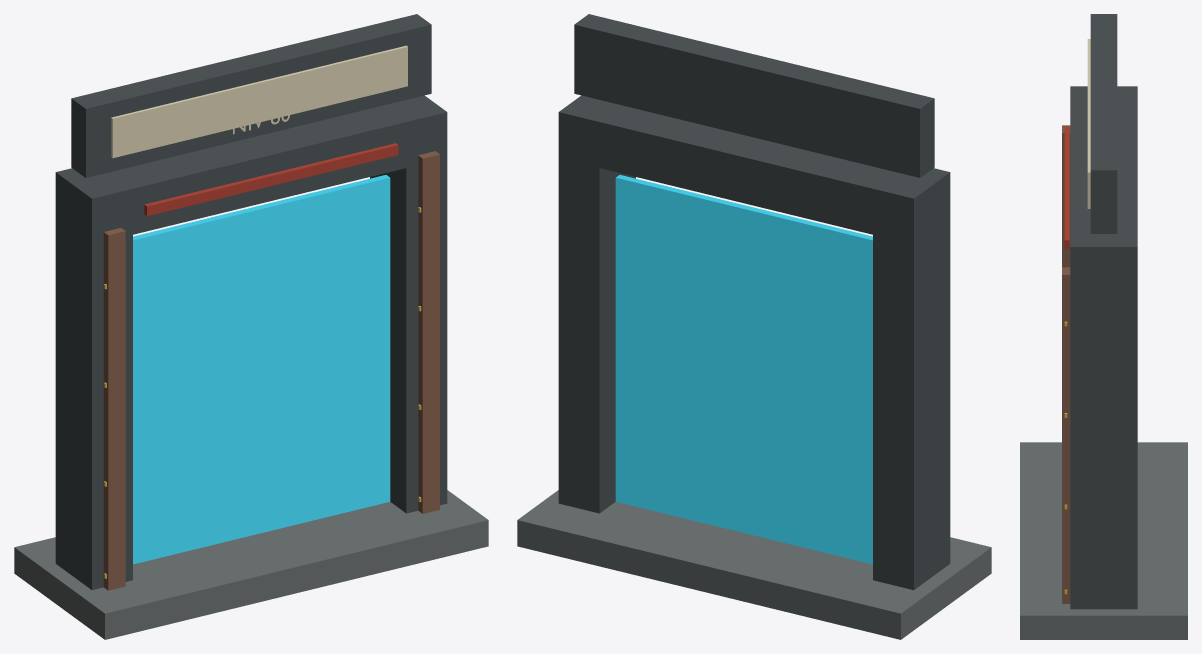
The model's file is Refuge_Portal_08_Citadelle_Niv80.fbx.
3 views of the same model, side by side, from view 1: azimuth 30°, elevation 25°; view 2: azimuth 150°, elevation 25°; view 3: azimuth 270°, elevation 25° (orthographic). The views are drawn at different scales.
Parts seen in each view (by area): view 1: Refuge_Portal_08_Citadelle_Niv80_portal, Refuge_Portal_08_Citadelle_Niv80_iron, Refuge_Portal_08_Citadelle_Niv80_concrete_dark, Refuge_Portal_08_Citadelle_Niv80_rust, Refuge_Portal_08_Citadelle_Niv80_paint, Refuge_Portal_08_Citadelle_Niv80_red, Refuge_Portal_08_Citadelle_Niv80_label; view 2: Refuge_Portal_08_Citadelle_Niv80_iron, Refuge_Portal_08_Citadelle_Niv80_portal, Refuge_Portal_08_Citadelle_Niv80_concrete_dark; view 3: Refuge_Portal_08_Citadelle_Niv80_iron, Refuge_Portal_08_Citadelle_Niv80_concrete_dark, Refuge_Portal_08_Citadelle_Niv80_rust, Refuge_Portal_08_Citadelle_Niv80_red, Refuge_Portal_08_Citadelle_Niv80_paint.
Boxes of the visible parts, box(x1,y1,x2,y2) form: Refuge_Portal_08_Citadelle_Niv80_portal: box(133, 175, 390, 564); Refuge_Portal_08_Citadelle_Niv80_iron: box(55, 14, 447, 590); Refuge_Portal_08_Citadelle_Niv80_concrete_dark: box(14, 490, 488, 639); Refuge_Portal_08_Citadelle_Niv80_rust: box(103, 151, 439, 590); Refuge_Portal_08_Citadelle_Niv80_paint: box(111, 45, 407, 158); Refuge_Portal_08_Citadelle_Niv80_red: box(144, 143, 398, 216); Refuge_Portal_08_Citadelle_Niv80_label: box(184, 67, 337, 124); Refuge_Portal_08_Citadelle_Niv80_iron: box(558, 14, 950, 590); Refuge_Portal_08_Citadelle_Niv80_portal: box(615, 175, 872, 564); Refuge_Portal_08_Citadelle_Niv80_concrete_dark: box(517, 490, 991, 639); Refuge_Portal_08_Citadelle_Niv80_iron: box(1070, 14, 1137, 609); Refuge_Portal_08_Citadelle_Niv80_concrete_dark: box(1020, 442, 1187, 639); Refuge_Portal_08_Citadelle_Niv80_rust: box(1062, 125, 1070, 603); Refuge_Portal_08_Citadelle_Niv80_red: box(1064, 126, 1069, 249); Refuge_Portal_08_Citadelle_Niv80_paint: box(1087, 39, 1090, 208).
Bounding box in the file's own units: 12.2 × 15.15 × 5.
